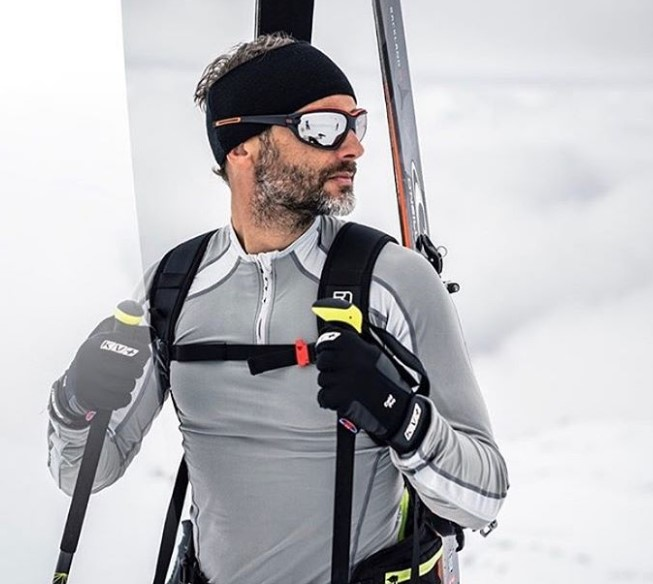face_no_mask: (227, 46, 372, 227)
